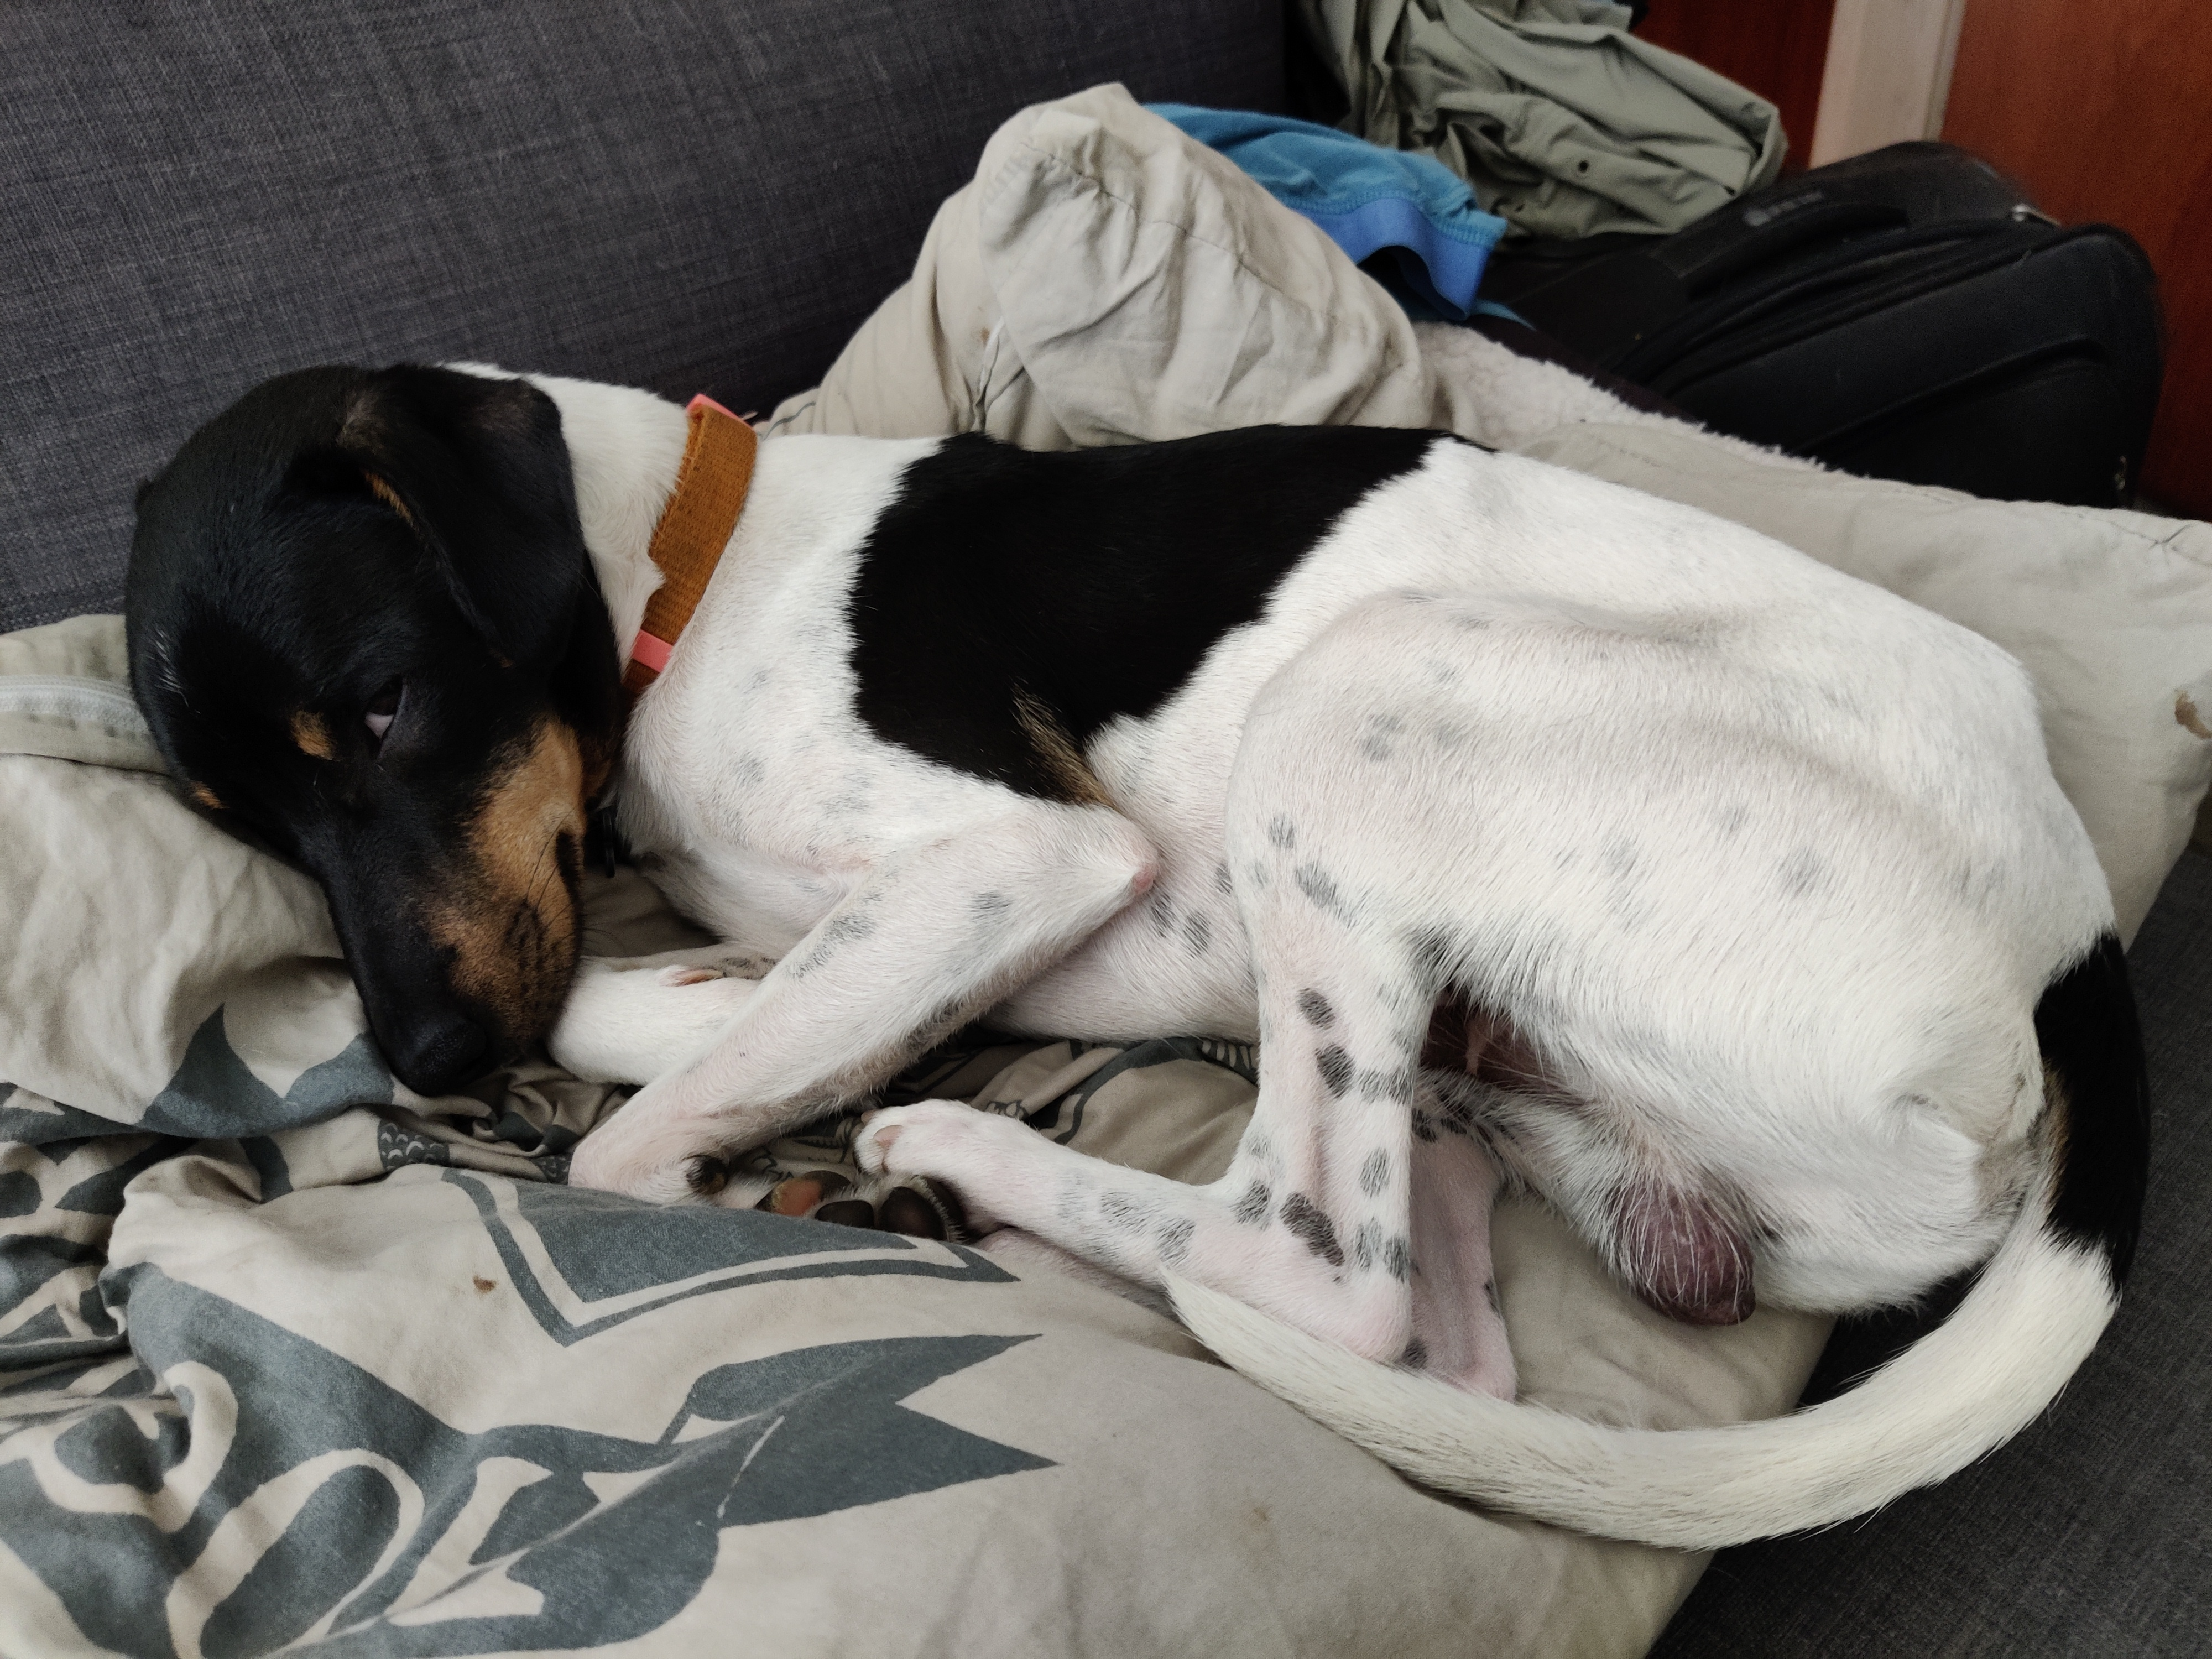Dog: (117, 354, 2160, 1549)
